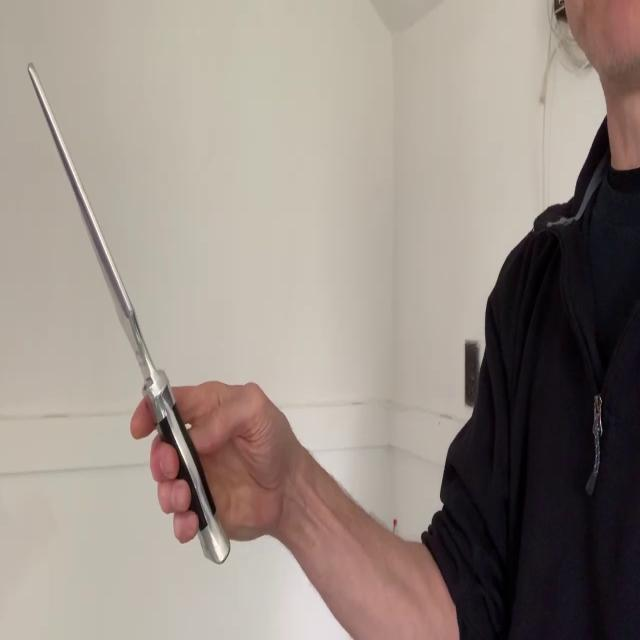Knife_Handle: (27, 60, 312, 569)
